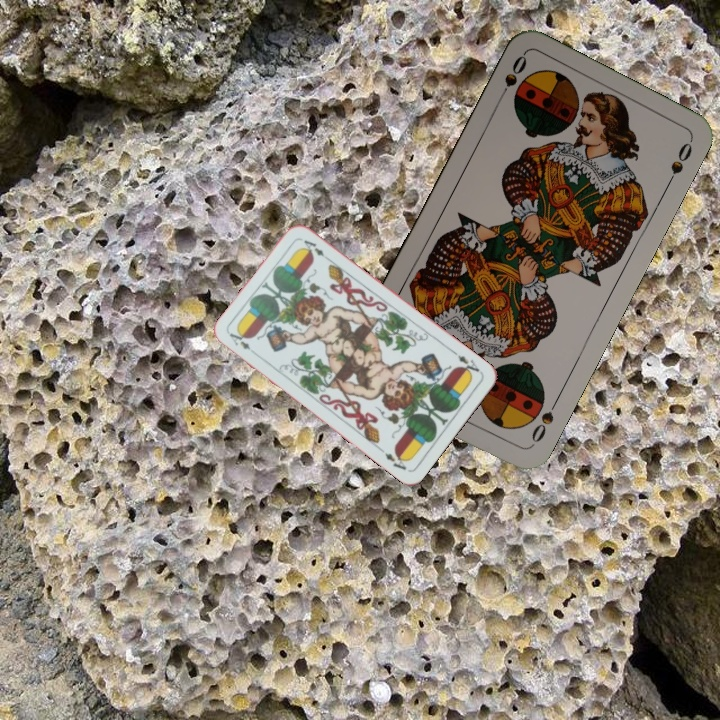EA: (225, 327, 260, 358), (449, 347, 482, 379)
SO: (493, 51, 530, 105), (525, 395, 561, 449)
